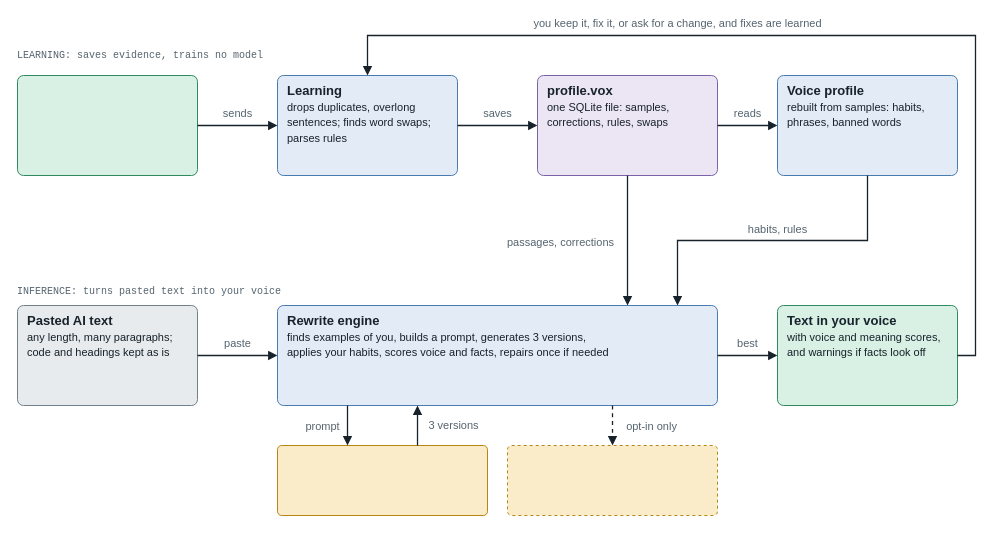
Some shapes in this 1002 by 533 pixel diagram are drawn without their labels. Here are the shapes that lost their labels. From the top down, the centre of each, then its label:
point 107,125: Your writing opening and daily answers your edits, stated rules writing you add
point 382,480: Ollama, on your machine gemma3:4b writes nomic-embed-text compares
point 612,480: Claude or OpenAI off unless you run voxmimic model
